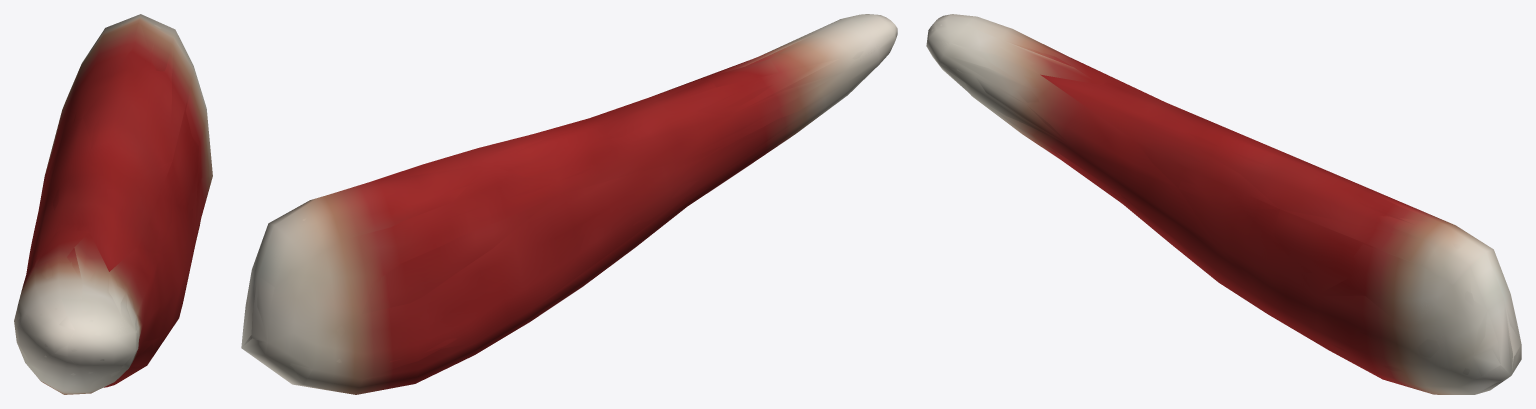
Rendered from R Quadratus Femoris.fbx.
The picture shows the model from 3 angles, left to right: view 1: azimuth 30°, elevation 25°; view 2: azimuth 150°, elevation 25°; view 3: azimuth 270°, elevation 25°; orthographic projection. The views are drawn at different scales.
Parts seen in each view (by area): view 1: R Quadratus Femoris, R Quadratus Femoris low, R Quadratus Femoris high; view 2: R Quadratus Femoris, R Quadratus Femoris low, R Quadratus Femoris high; view 3: R Quadratus Femoris, R Quadratus Femoris low, R Quadratus Femoris high.
Boxes of the visible parts, left/top/right/bottom form: R Quadratus Femoris: left=14, top=14, right=212, bottom=394; R Quadratus Femoris low: left=15, top=17, right=212, bottom=394; R Quadratus Femoris high: left=18, top=24, right=201, bottom=385; R Quadratus Femoris: left=242, top=14, right=897, bottom=394; R Quadratus Femoris low: left=241, top=17, right=893, bottom=393; R Quadratus Femoris high: left=288, top=14, right=896, bottom=369; R Quadratus Femoris: left=926, top=14, right=1521, bottom=394; R Quadratus Femoris low: left=927, top=16, right=1521, bottom=394; R Quadratus Femoris high: left=931, top=16, right=1473, bottom=374.
Size of the model in its own units: 1.09 by 0.7057 by 1.54.
